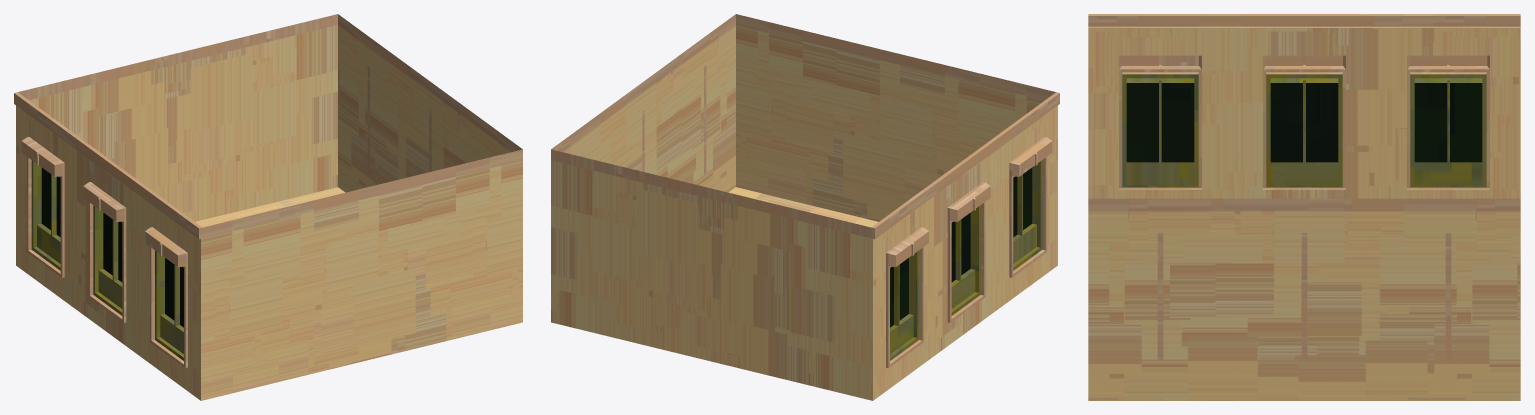
File: Building_02.fbx
3 views of the same model, side by side, from view 1: azimuth 30°, elevation 25°; view 2: azimuth 150°, elevation 25°; view 3: azimuth 270°, elevation 25° (orthographic). The views are drawn at different scales.
Parts seen in each view (by area): view 1: Building_02; view 2: Building_02; view 3: Building_02.
Part boxes in pixels (x1,y1,x2,y2): Building_02: [14, 14, 522, 400]; Building_02: [551, 14, 1059, 400]; Building_02: [1088, 14, 1520, 400].
Bounding box in the file's own units: 1036 × 516 × 1000.
Materials: 4 (4 with a texture image).
